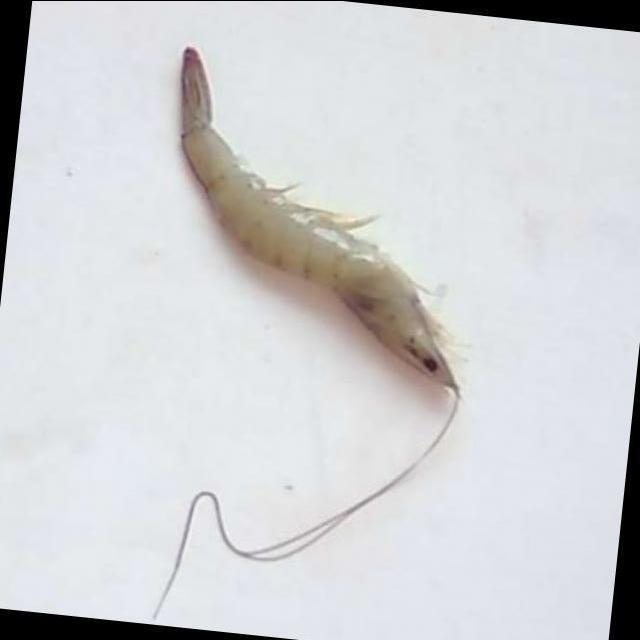shrimp: (182, 47, 458, 393)
